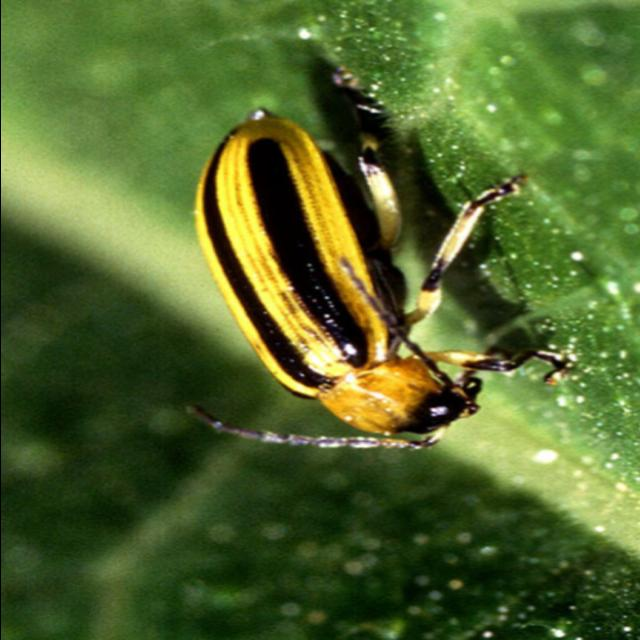cucumber_beetle: (160, 114, 572, 464)
